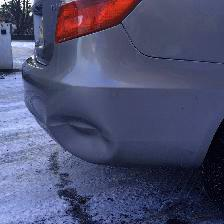bumper_dent: (33, 97, 135, 163)
